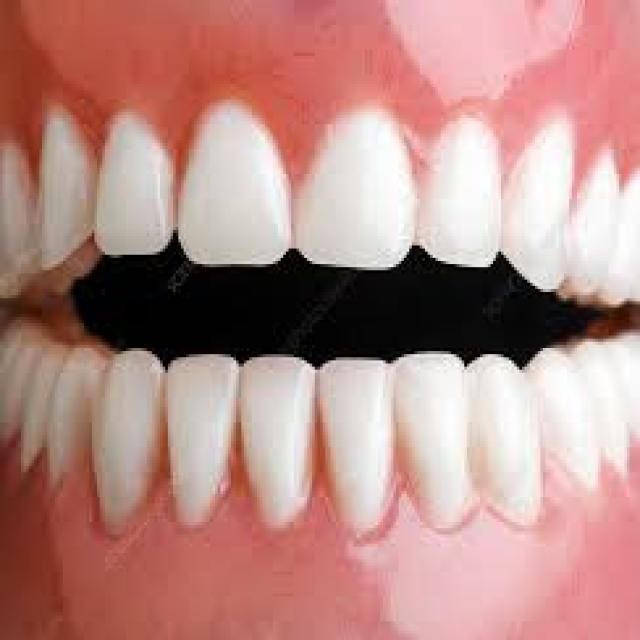tooth: (286, 102, 409, 274), (189, 103, 294, 264), (322, 358, 407, 534), (412, 115, 501, 270), (394, 354, 472, 522), (464, 348, 535, 516), (504, 106, 566, 295), (97, 108, 178, 252), (162, 354, 230, 519), (94, 342, 162, 506), (543, 354, 640, 466), (239, 364, 312, 509), (2, 323, 74, 463), (37, 112, 92, 261), (574, 140, 616, 308), (2, 140, 36, 298), (60, 351, 92, 494), (616, 171, 640, 304)
